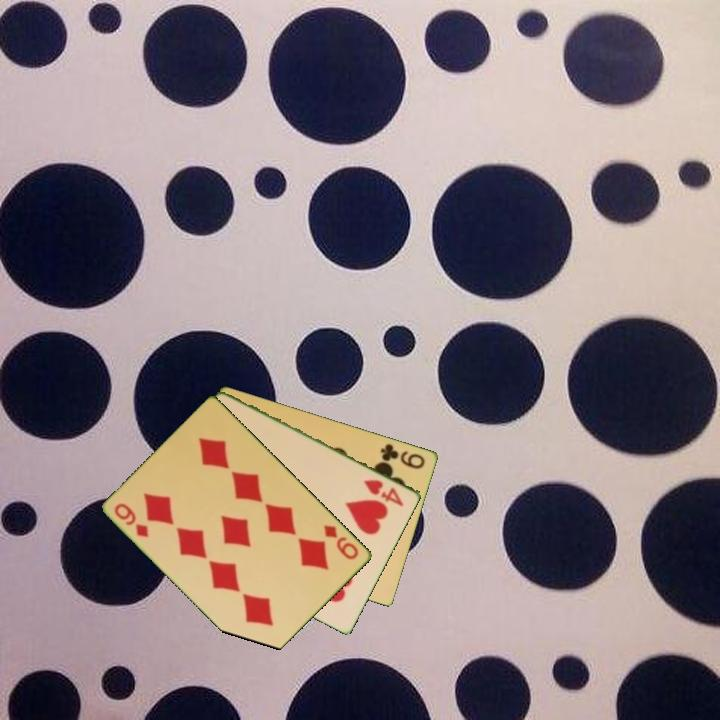4h: (360, 476, 407, 509)
9c: (377, 440, 428, 472)
9d: (320, 521, 362, 563), (111, 499, 152, 541)
